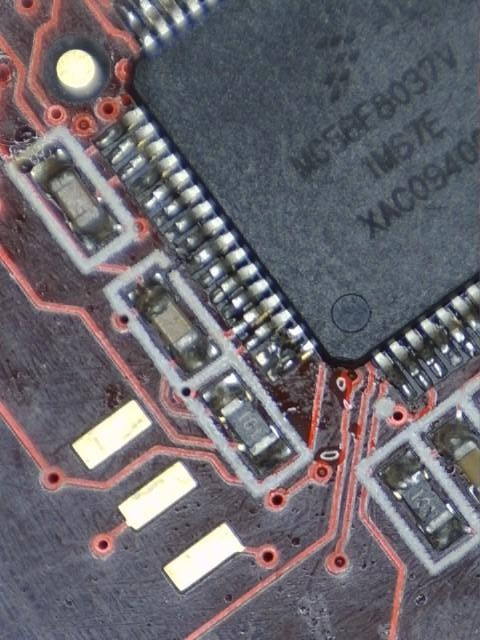pcb_defect: (256, 324, 318, 382)
